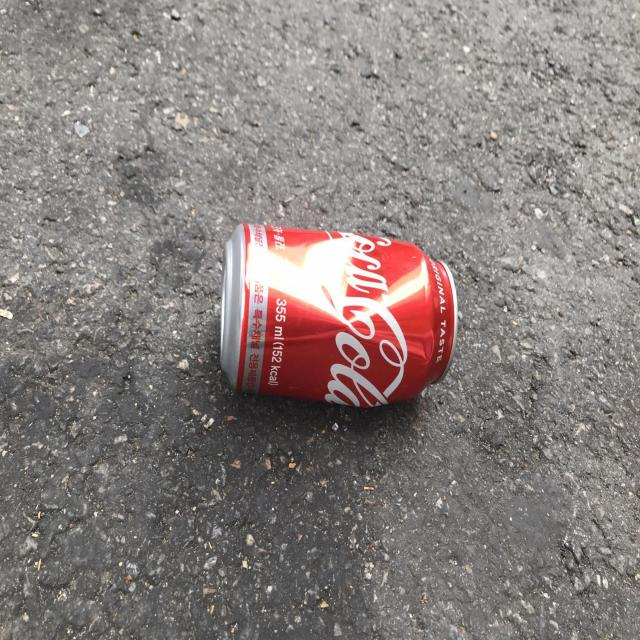can: (221, 223, 458, 407)
